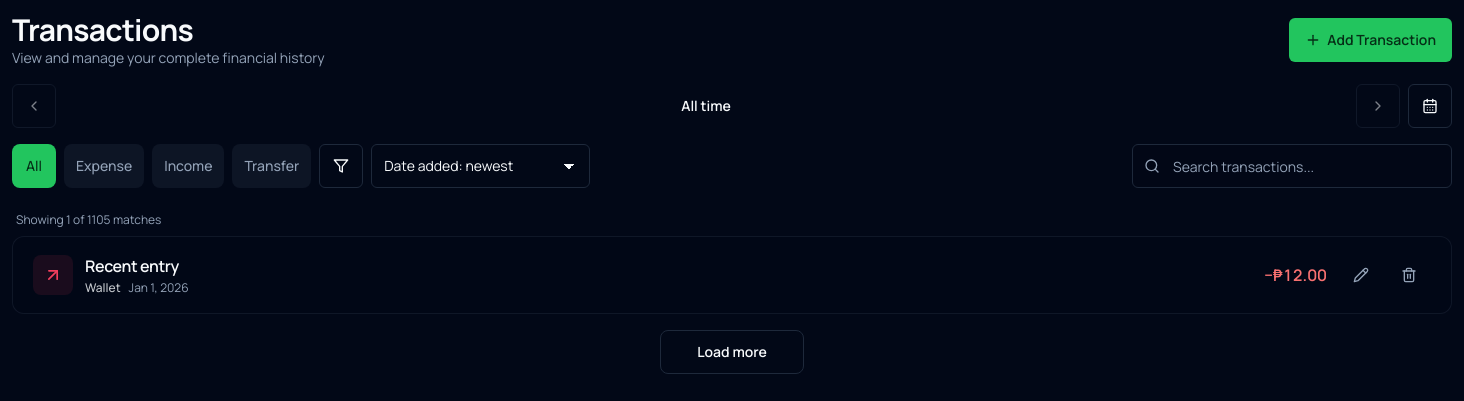
Scenario: search reaches an older backend match without loading older pages
Expected: the text "Recent entry" is shown, [85, 255, 179, 277]
Type "archive" into the search field labelled "Search transactions" at (1292, 166), box [1132, 144, 1452, 188]
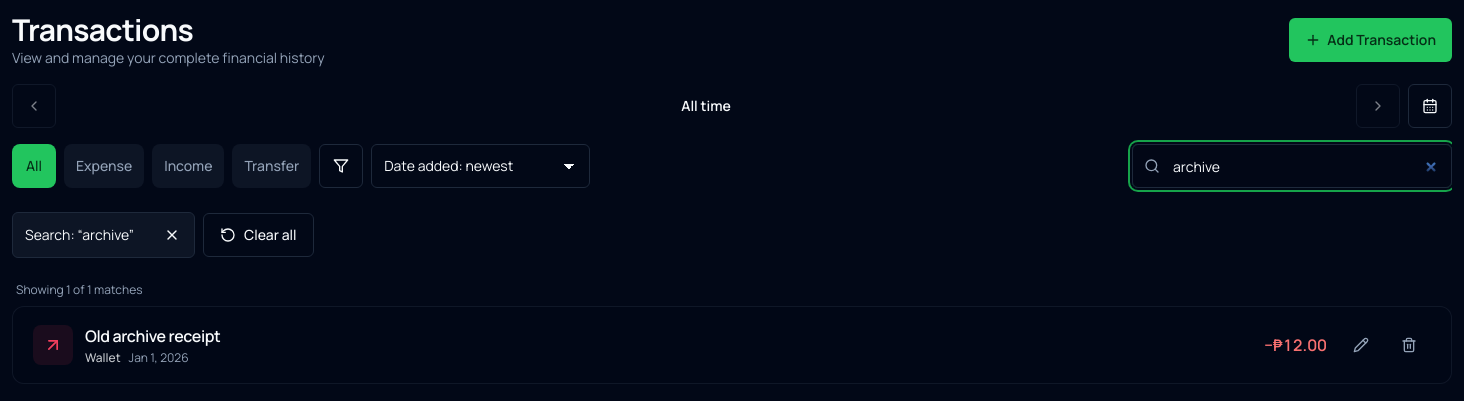
Result: the text "Old archive receipt" is shown at [85, 325, 220, 347]
Result: the button "Recent entry" is gone
Result: the button "Load more" is gone
